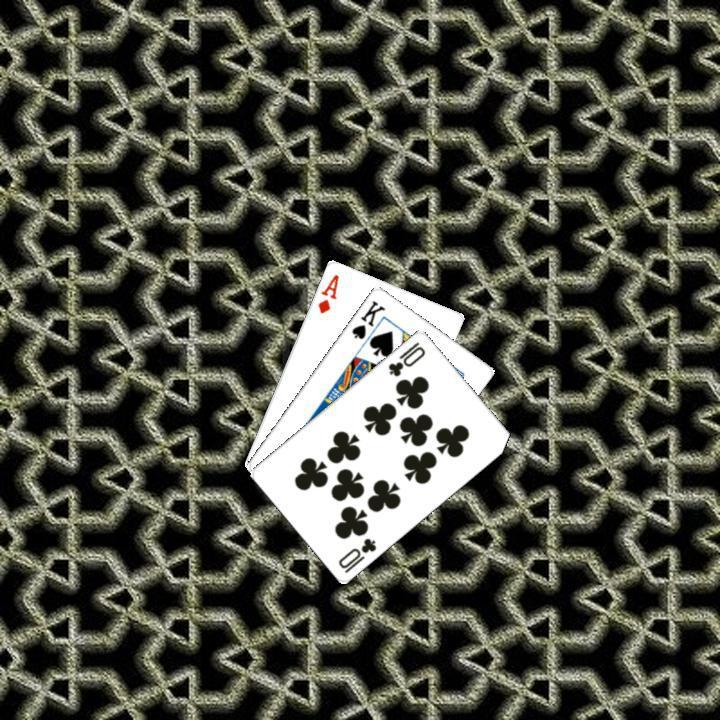10: (334, 533, 379, 575), (383, 337, 428, 378)
A: (313, 269, 341, 315)
K: (347, 296, 387, 341)
